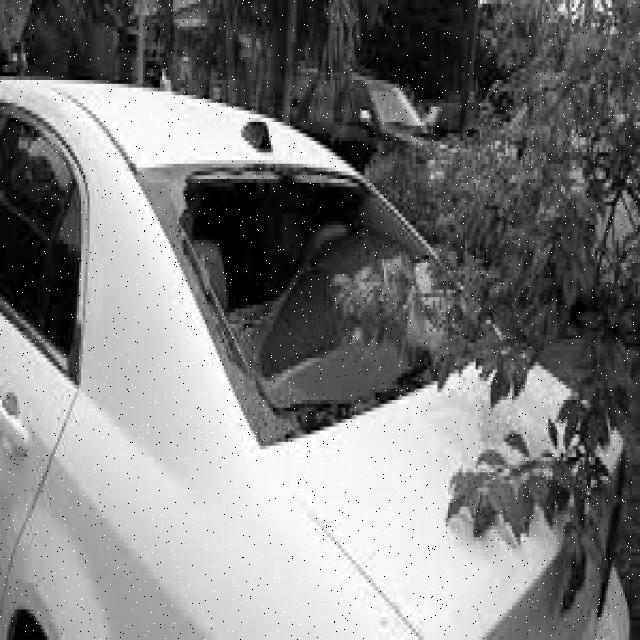Rear-windscreen-Damage: (178, 145, 479, 469)
